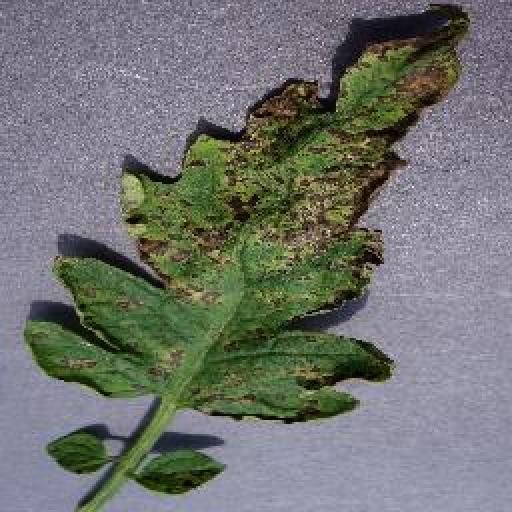disease_tomato: (31, 20, 472, 422)
